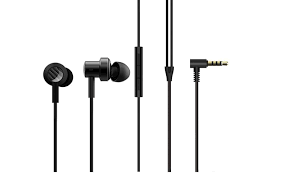earphone: (83, 48, 132, 126), (36, 56, 80, 127)
